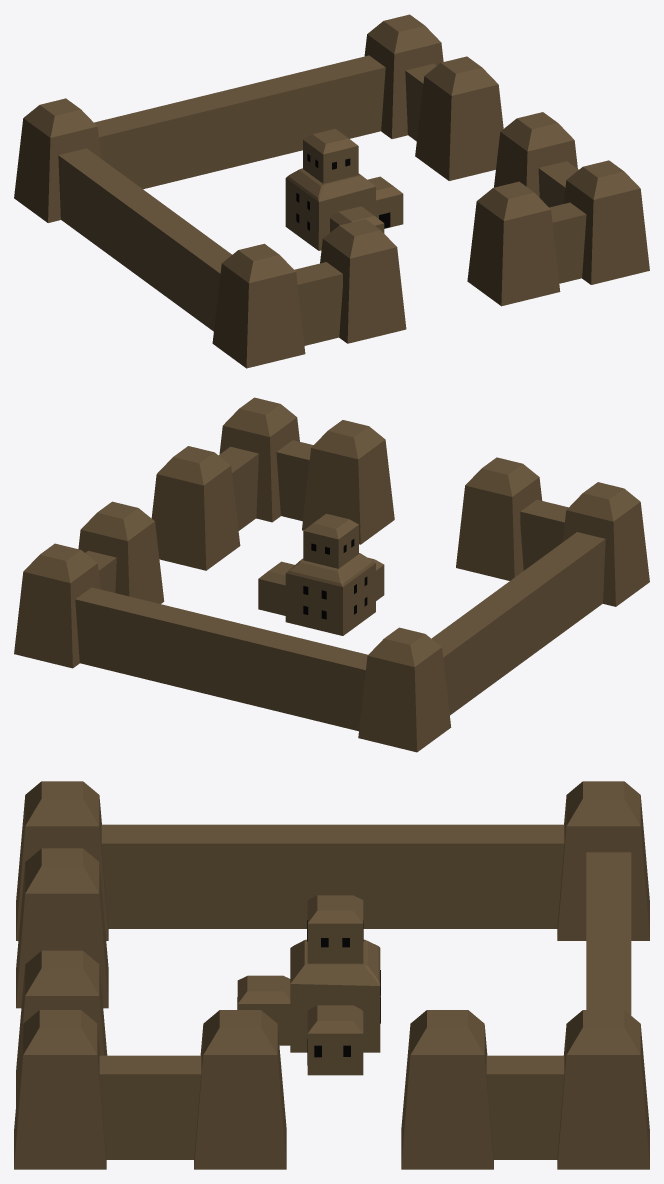
The model's file is basicoutpost.fbx.
3 renders of one model, top to bottom at view 1: azimuth 30°, elevation 25°; view 2: azimuth 150°, elevation 25°; view 3: azimuth 270°, elevation 25°, orthographic. The views are drawn at different scales.
Visible parts, largest first — view 1: walls, Building; view 2: walls, Building; view 3: walls, Building.
Boxes of the visible parts, x1,y1,x2,y2 form: walls: (14,14,649,368); Building: (285,128,403,250); walls: (14,397,649,752); Building: (258,513,384,635); walls: (14,781,649,1169); Building: (237,895,380,1075).
Size of the model in its own units: 7117 by 1643 by 7140.
